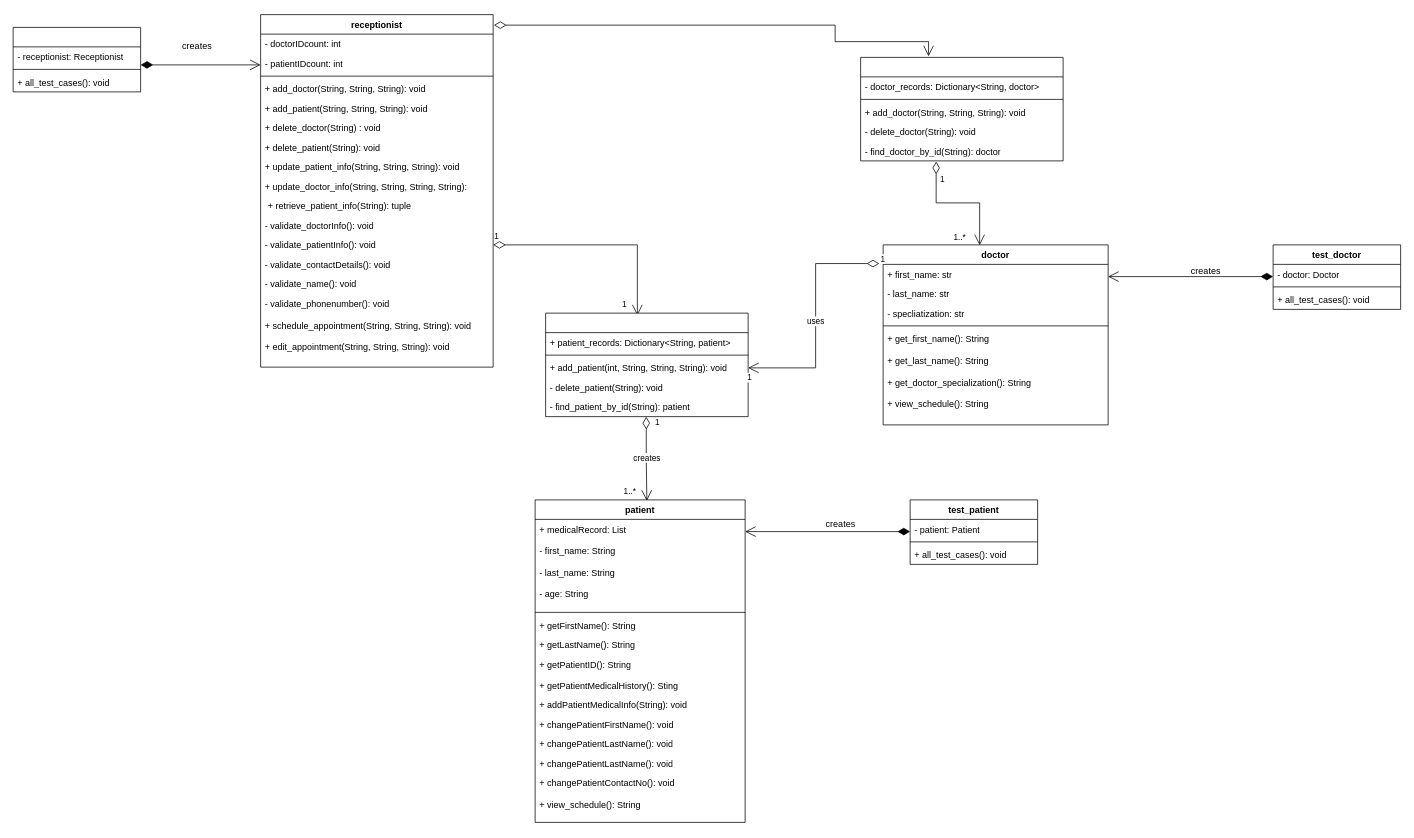
The diagram is 1414 pixels wide and 838 high, and some of its shapes have lost their labels. The shapes that lost their labels are listed below. From the top down, each one's box as (x1, y1, x2, y2) in pixels, then its label:
(12, 27, 141, 92): test_receptionist
(860, 57, 1063, 161): doctordatabase
(545, 312, 748, 417): patientdatabase
